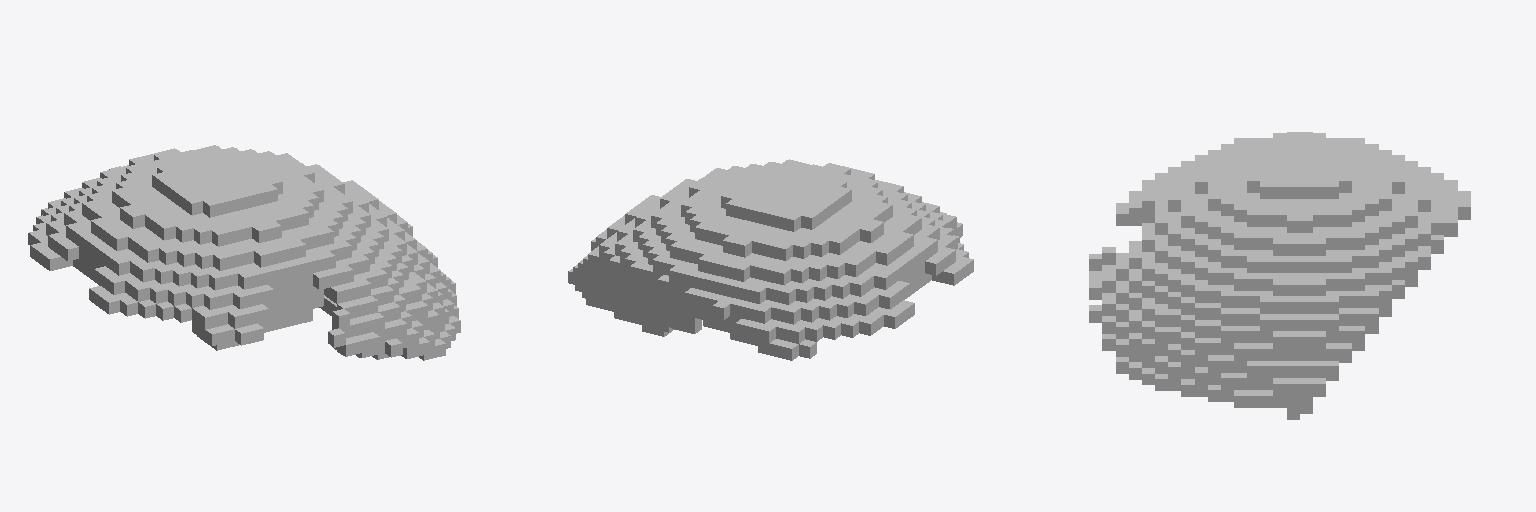
Rendered from верхний осколок.obj.
3 renders of one model, left to right at view 1: azimuth 30°, elevation 25°; view 2: azimuth 150°, elevation 25°; view 3: azimuth 270°, elevation 25°, orthographic.
Parts seen in each view (by area): view 1: object 1; view 2: object 1; view 3: object 1.
Part boxes in pixels (bbox=[...]): object 1: bbox=[28, 145, 460, 360]; object 1: bbox=[568, 159, 973, 360]; object 1: bbox=[1089, 132, 1470, 419].
Bounding box in the file's own units: 3.1 × 1.3 × 2.9.